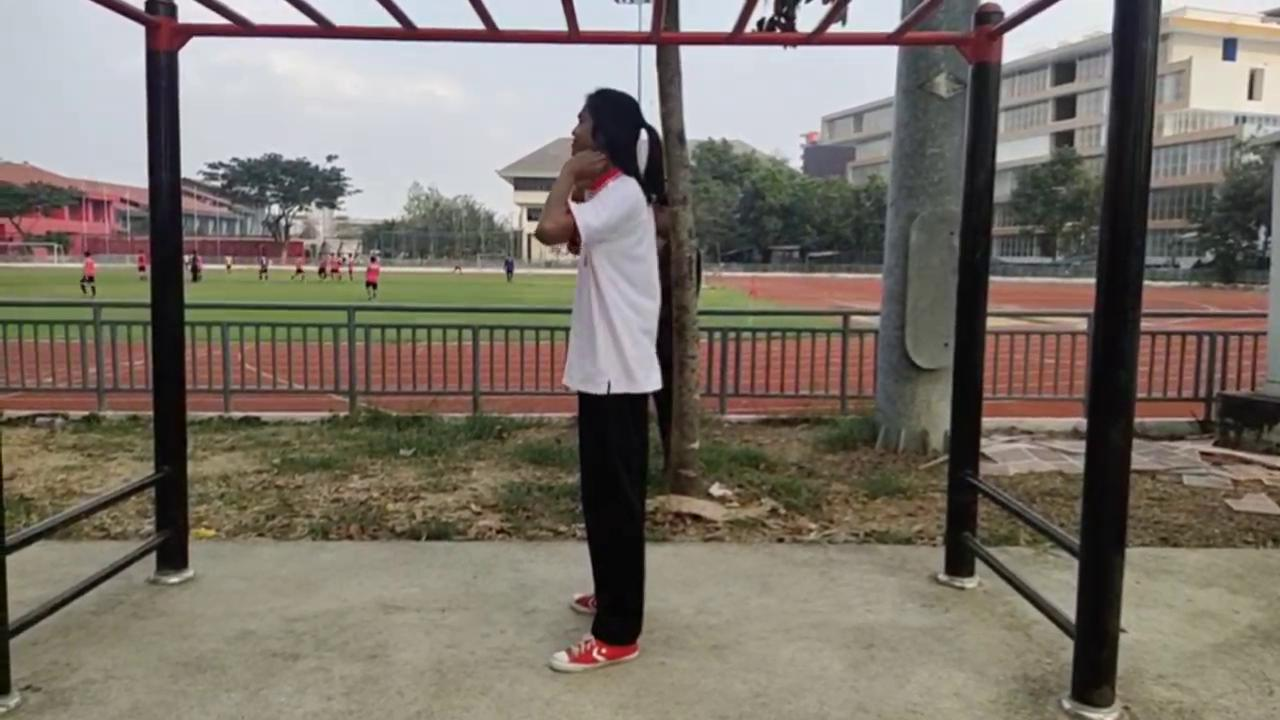squat up: (533, 90, 672, 673)
